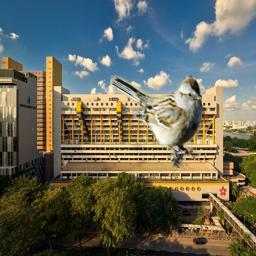Sparrow: (110, 75, 202, 168)
